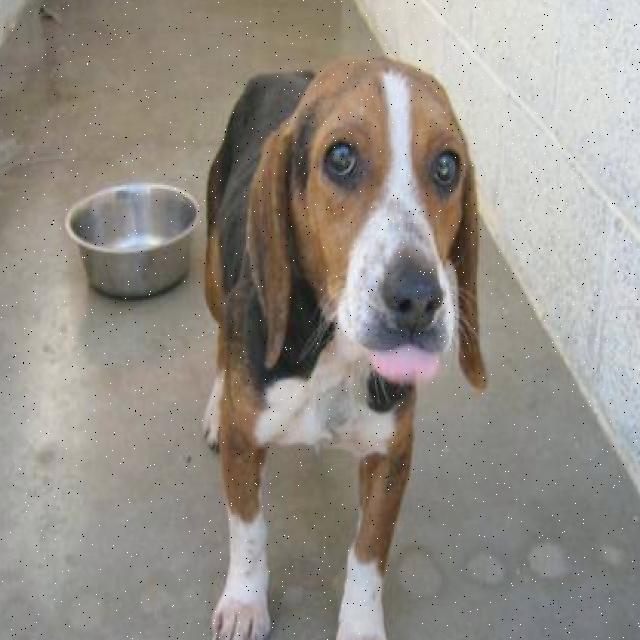Dog: (243, 42, 486, 431)
